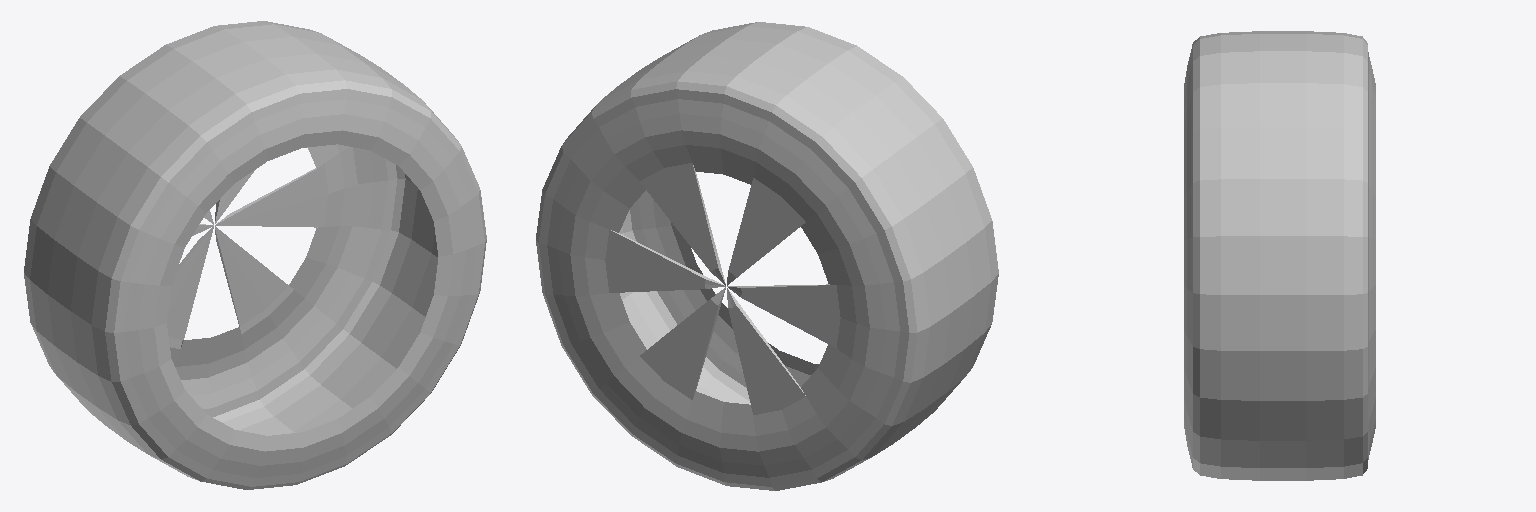
File: Tire and Rim.obj
3 renders of one model, left to right at view 1: azimuth 30°, elevation 25°; view 2: azimuth 150°, elevation 25°; view 3: azimuth 270°, elevation 25°, orthographic.
Parts seen in each view (by area): view 1: loftedSurface1, loftedSurface2; view 2: loftedSurface1, loftedSurface2; view 3: loftedSurface1.
Part boxes in pixels (bbox=[...]): loftedSurface1: bbox=[24, 21, 486, 489]; loftedSurface2: bbox=[167, 145, 344, 366]; loftedSurface1: bbox=[536, 22, 998, 490]; loftedSurface2: bbox=[585, 145, 856, 435]; loftedSurface1: bbox=[1184, 31, 1375, 480].
Bounding box in the file's own units: 2.88 × 2.88 × 1.22.